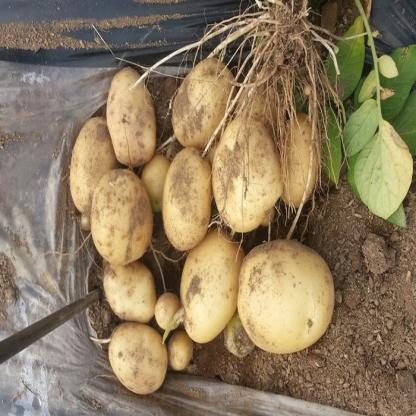potato: (234, 239, 342, 360), (208, 83, 288, 239), (163, 225, 260, 350), (172, 49, 243, 162), (159, 134, 228, 250), (104, 51, 166, 170), (88, 161, 157, 266), (62, 103, 120, 226), (99, 310, 169, 400), (90, 252, 168, 332)
